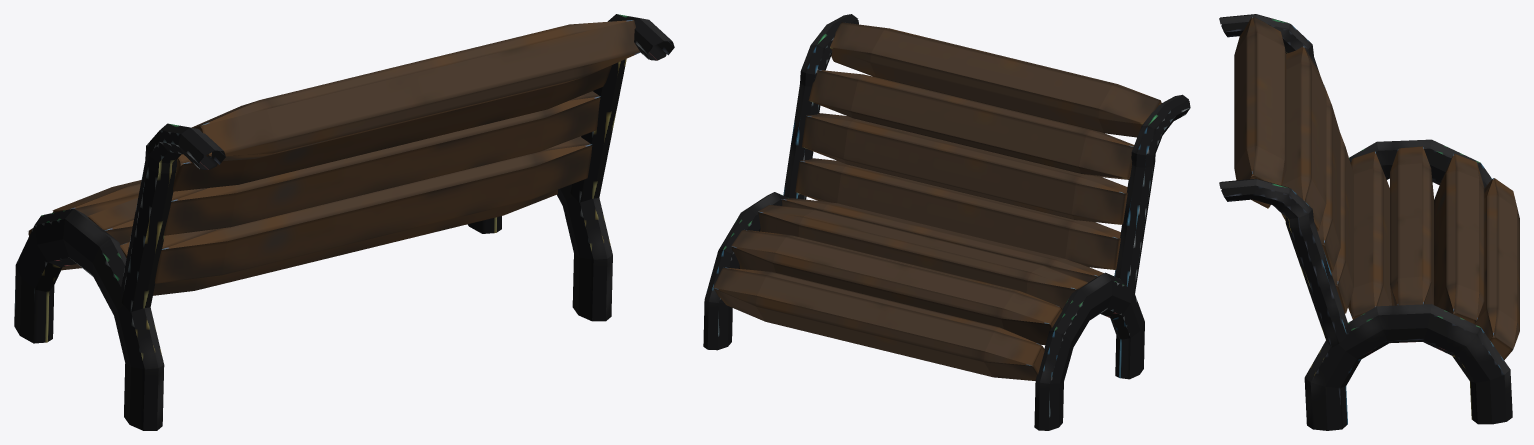
Rendered from Bench.fbx.
3 views of the same model, side by side, from view 1: azimuth 30°, elevation 25°; view 2: azimuth 150°, elevation 25°; view 3: azimuth 270°, elevation 25° (orthographic). The views are drawn at different scales.
Parts seen in each view (by area): view 1: beveled_cuboid; view 2: beveled_cuboid; view 3: beveled_cuboid.
Part boxes in pixels (bbox=[...]): beveled_cuboid: bbox=[14, 14, 674, 430]; beveled_cuboid: bbox=[703, 14, 1190, 430]; beveled_cuboid: bbox=[1219, 14, 1519, 430].
Size of the model in its own units: 113 by 76.73 by 82.07.
Materials: 2 (2 with a texture image).
